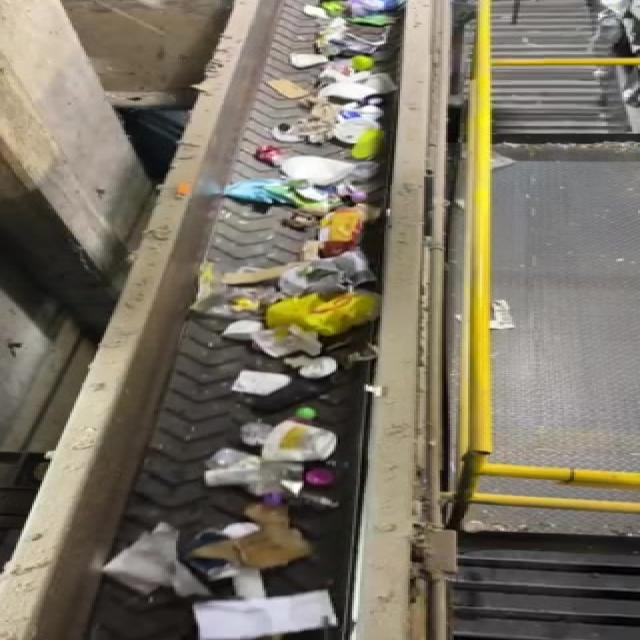paper: (202, 489, 317, 571), (197, 578, 348, 638), (104, 525, 208, 606)
pp: (230, 404, 384, 460), (192, 453, 336, 498)
